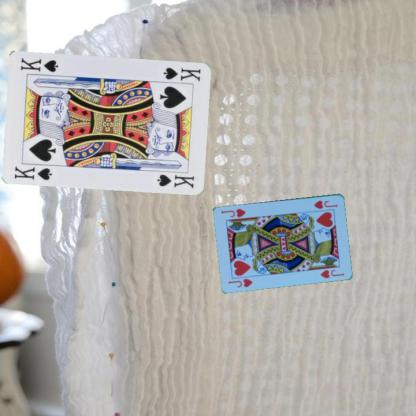Jh: (226, 276, 254, 288), (310, 198, 339, 209)
Ks: (161, 64, 202, 83), (12, 163, 54, 181)
